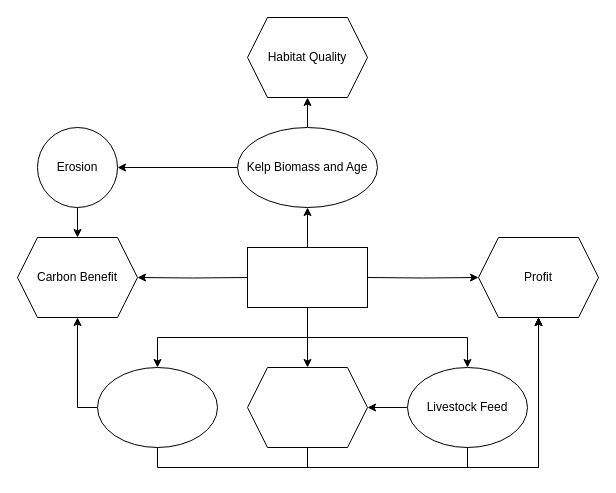
Image size: 616x493. Some labels were removed from this diagram. The centre of each missing label's shape, as x and y in pixels:
Farm Management / Harvesting Regime: [307,277]
Food: [307,407]
Harvest and Sinking: [157,407]
